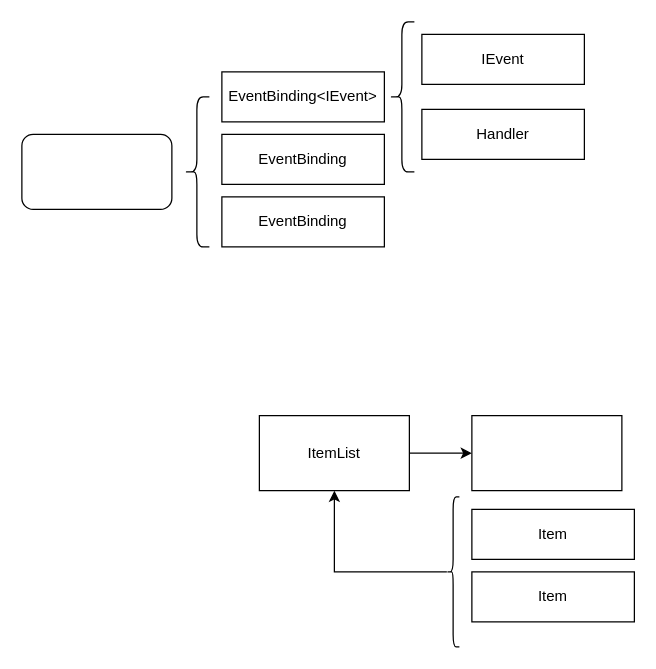
The diagram is 656 pixels wide and 669 high, and some of its shapes have lost their labels. Each missing label, with the centre of its shape:
"EventBus<IEvent>" belongs at [96,171].
"stacks" belongs at [546,452].
